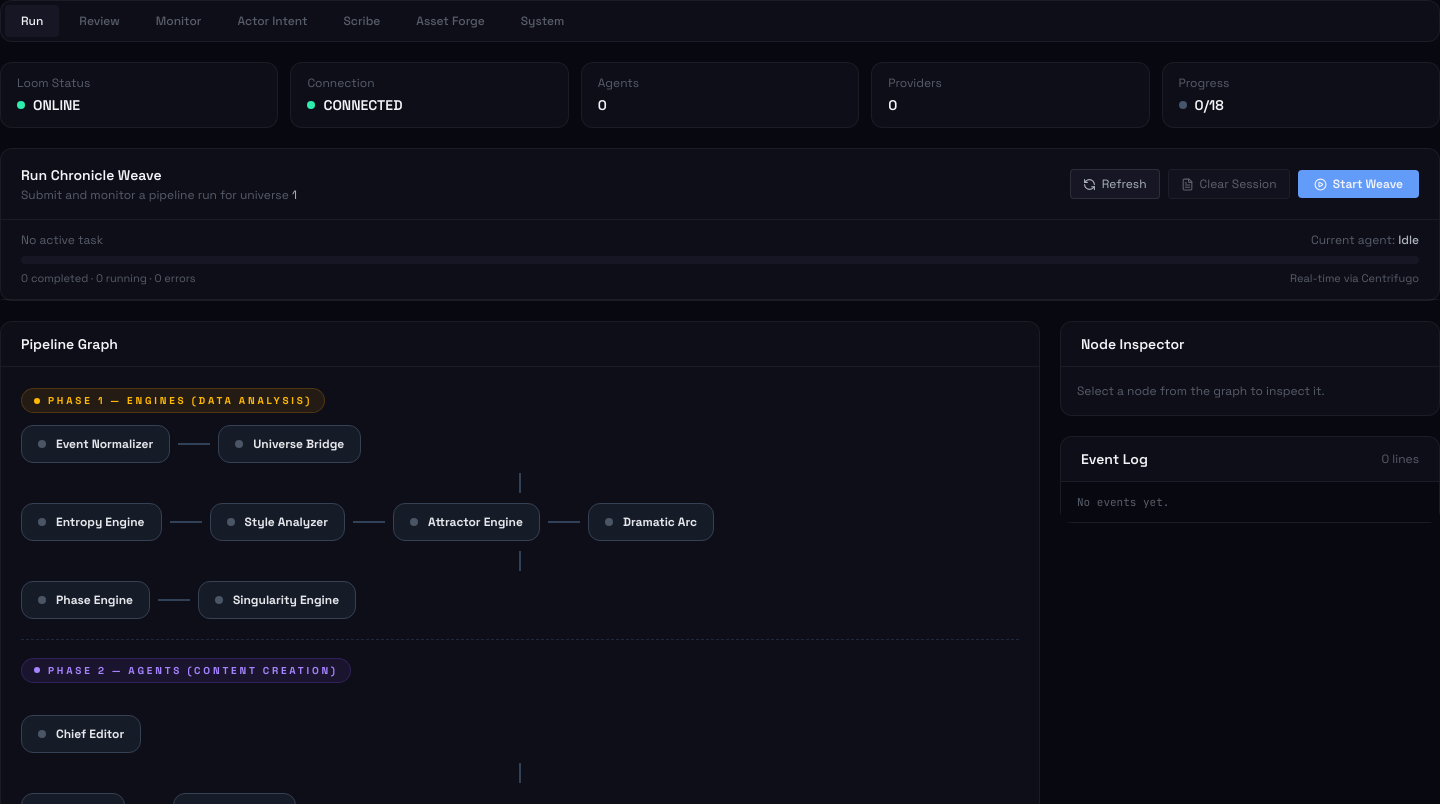
Test: LoomOps › đổi tab: click Actor Intent hiển thị form actor
Click the tab "Actor Intent".
click(272, 21)  # box [221,5,324,37]
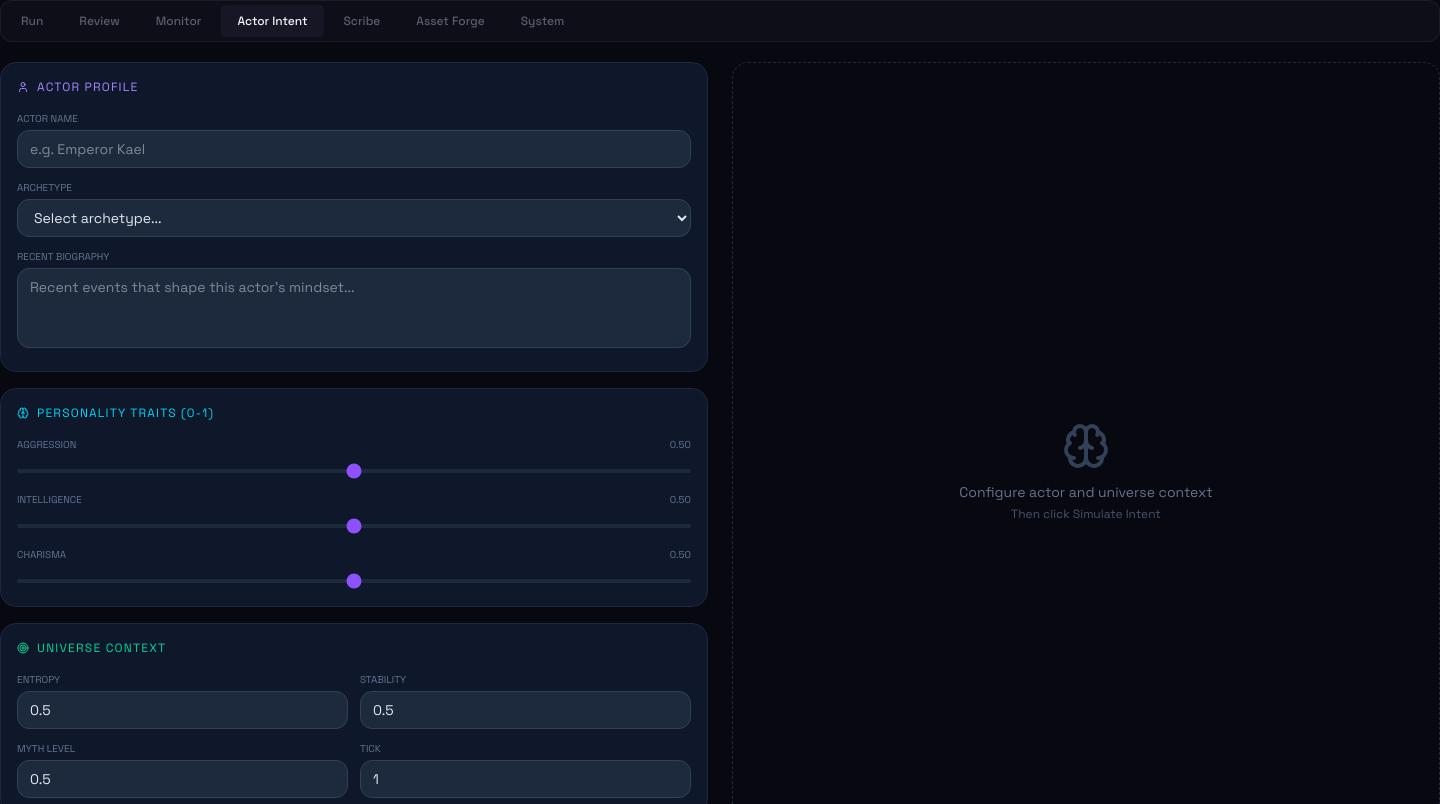
Expected: the heading "Actor Profile" is shown, [17,79,138,95]
